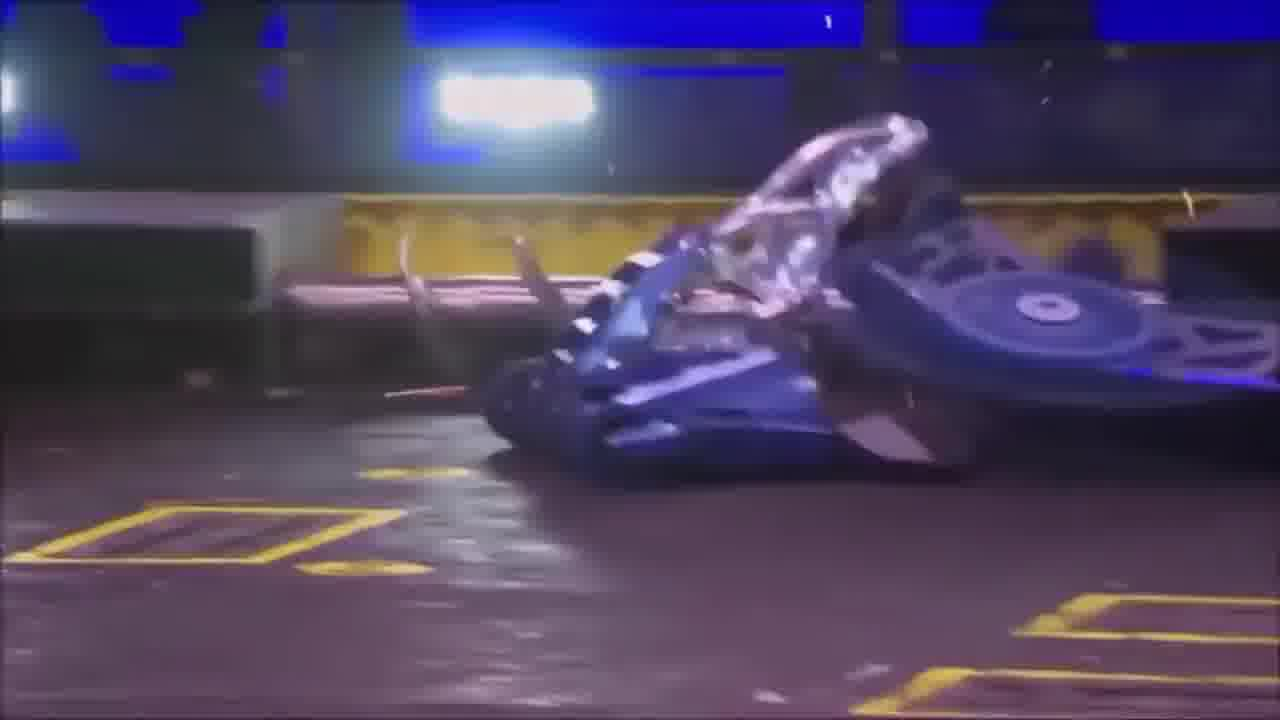combatbot: (479, 105, 928, 478), (821, 172, 1280, 403)
